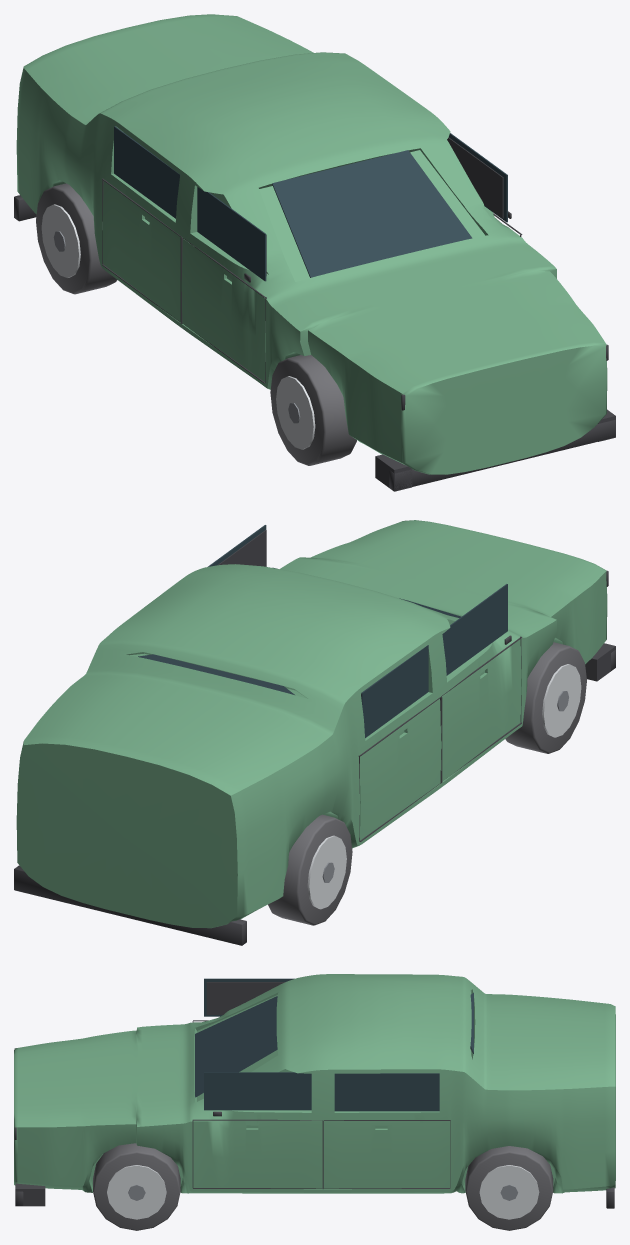
File: Hatch_Compact_25.fbx
3 renders of one model, top to bottom at view 1: azimuth 30°, elevation 25°; view 2: azimuth 150°, elevation 25°; view 3: azimuth 270°, elevation 25°, orthographic. The views are drawn at different scales.
Visible parts, largest first — view 1: LOD0; view 2: LOD0; view 3: LOD0.
Boxes of the visible parts, box(x1,y1,x2,y2) form: LOD0: box(14, 14, 615, 491); LOD0: box(14, 520, 615, 945); LOD0: box(14, 974, 615, 1230).
Size of what is drawn, in the model's own units: 182 by 141 by 442.
